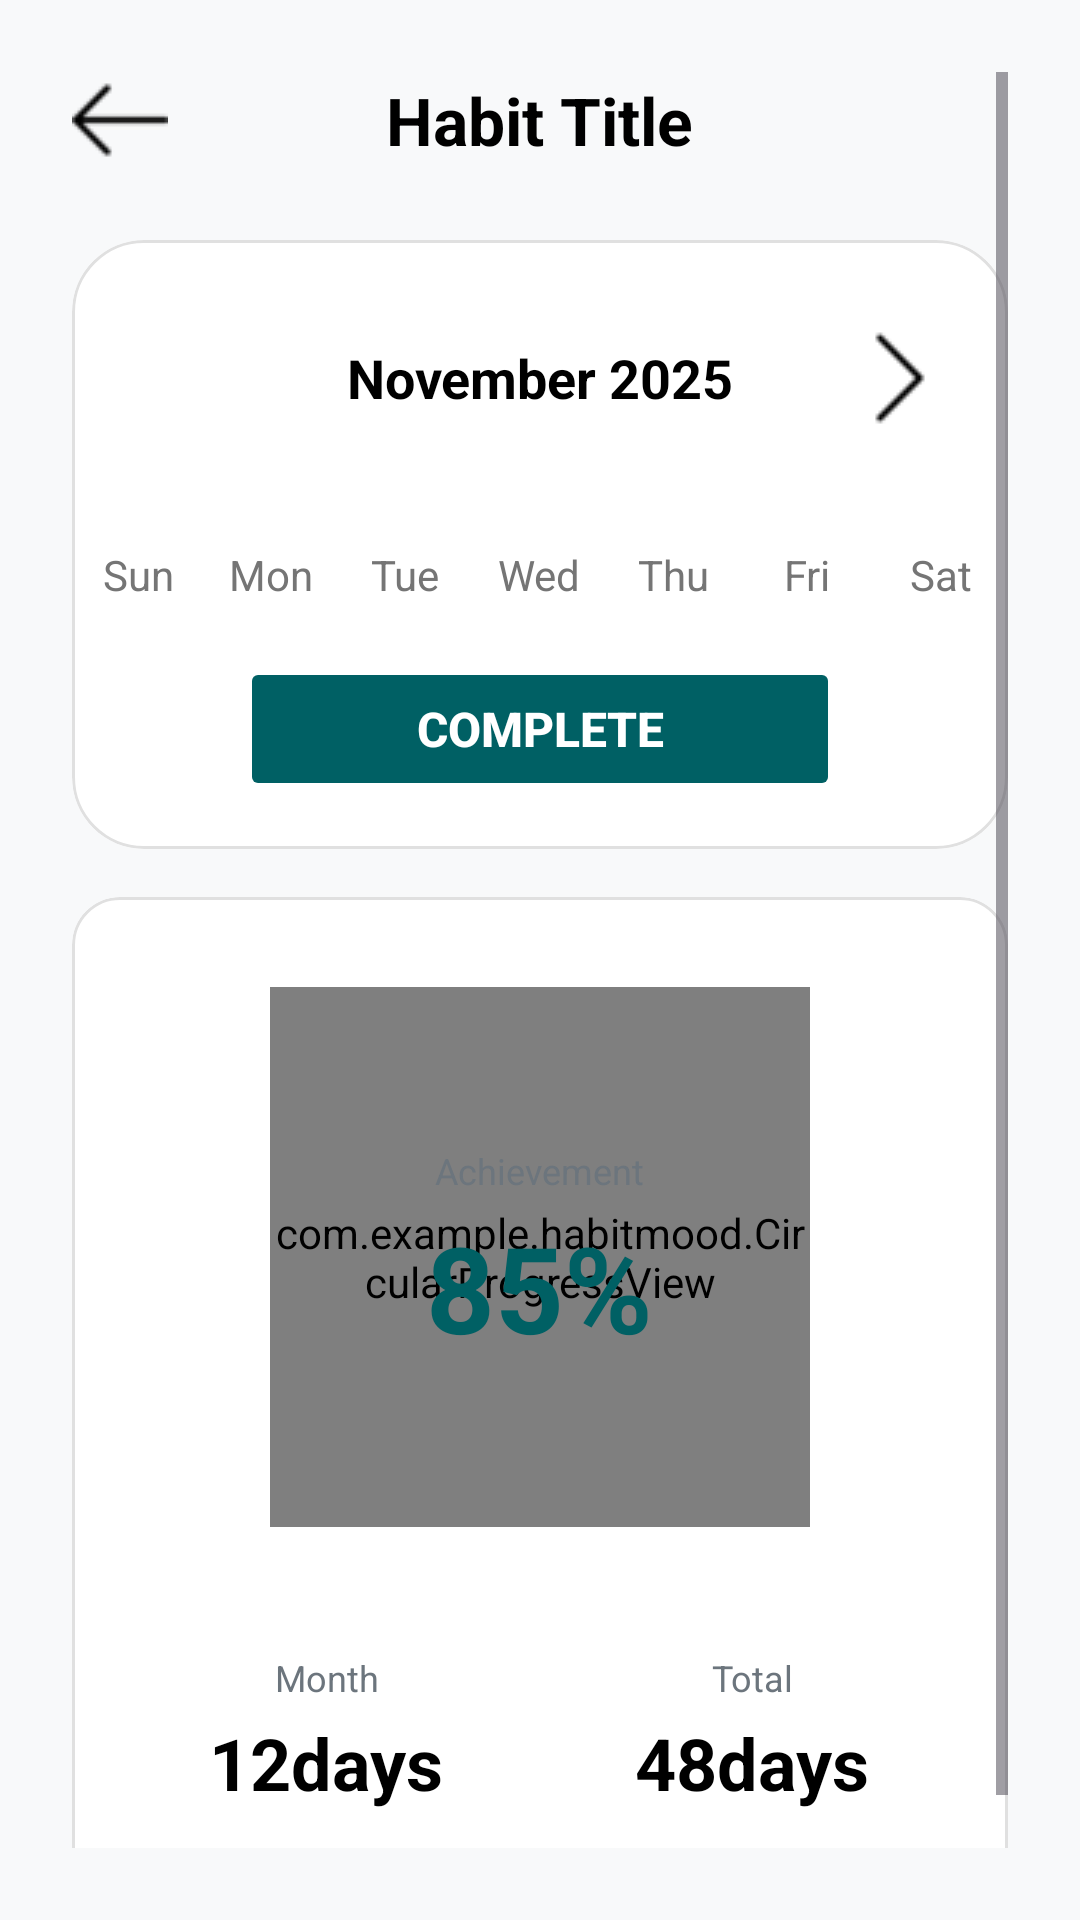

Icons on this 1080 × 1920 Android screen, each with the point to tap as (x,y):
Back: (120,120)
Next Month: (900,378)
